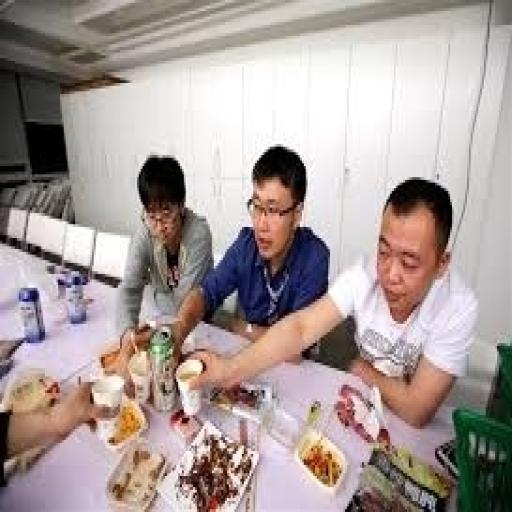eating: (186, 174, 480, 429)
